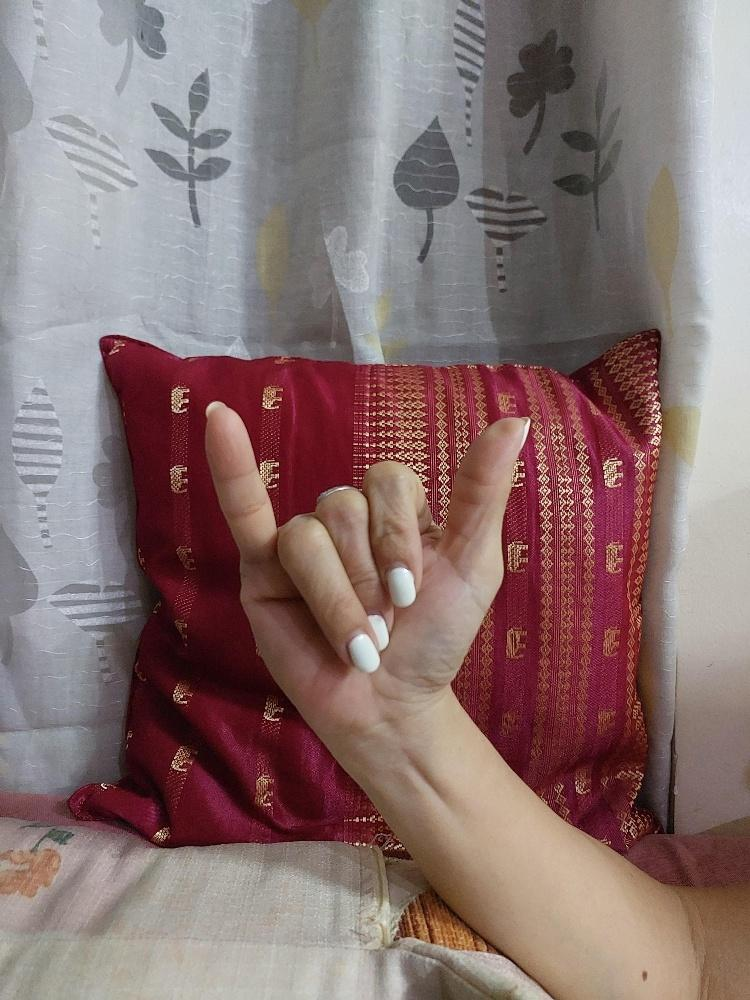y: (199, 393, 533, 729)
